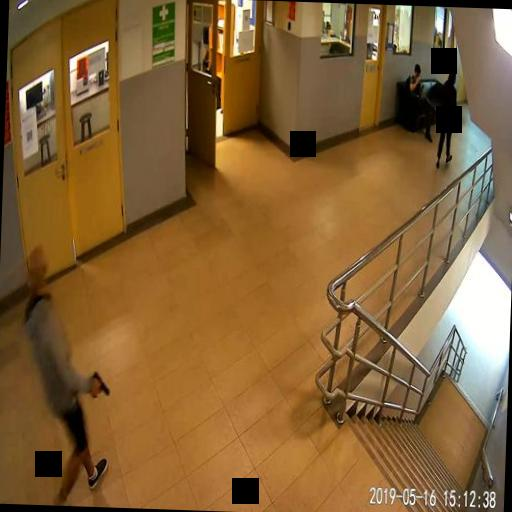Handgun: (89, 369, 109, 396)
